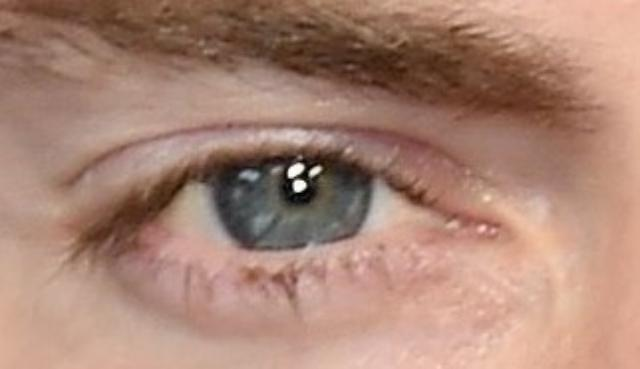eye: (212, 147, 372, 252)
